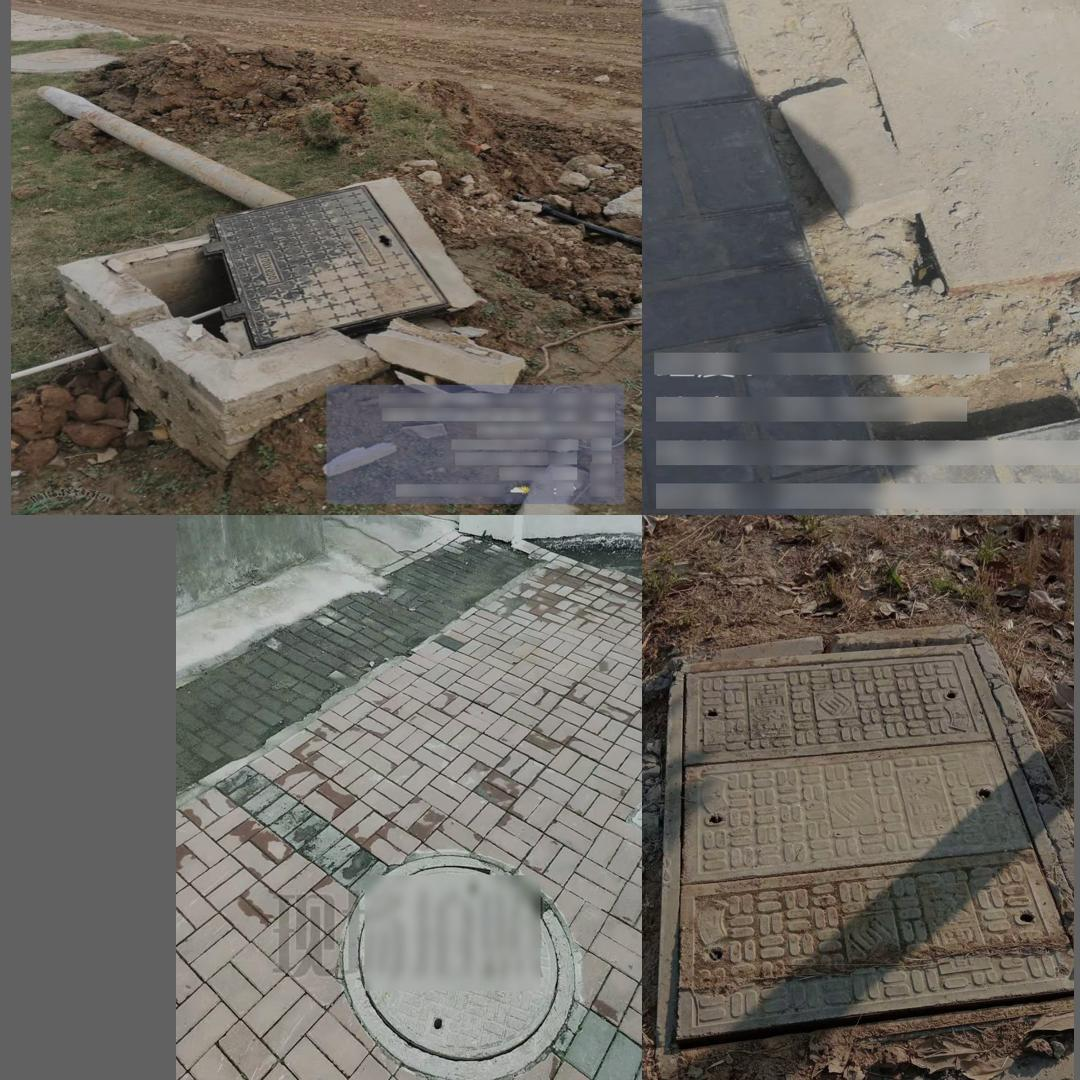circle: (648, 626, 1074, 1065), (698, 0, 1080, 377), (85, 175, 511, 386), (338, 855, 578, 1080)
